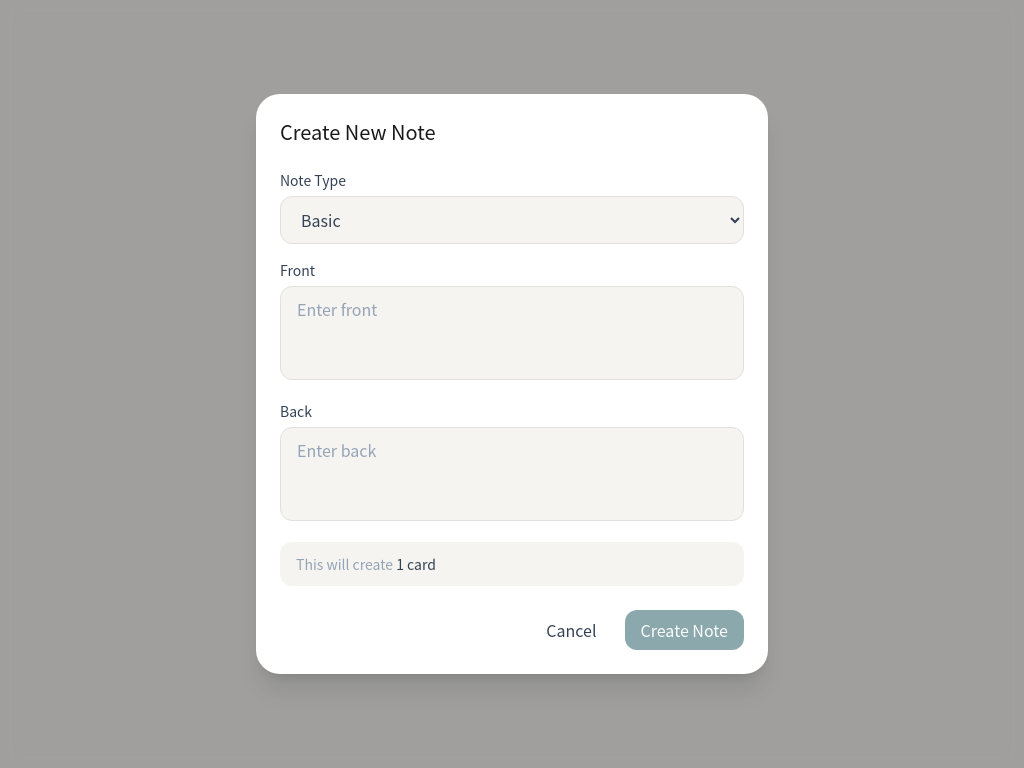
Test: CreateNoteModal › enables create button when all fields have values
Step 1. Type "Question" into the text box labelled "Front" → (512, 333), box [280,286,744,380]
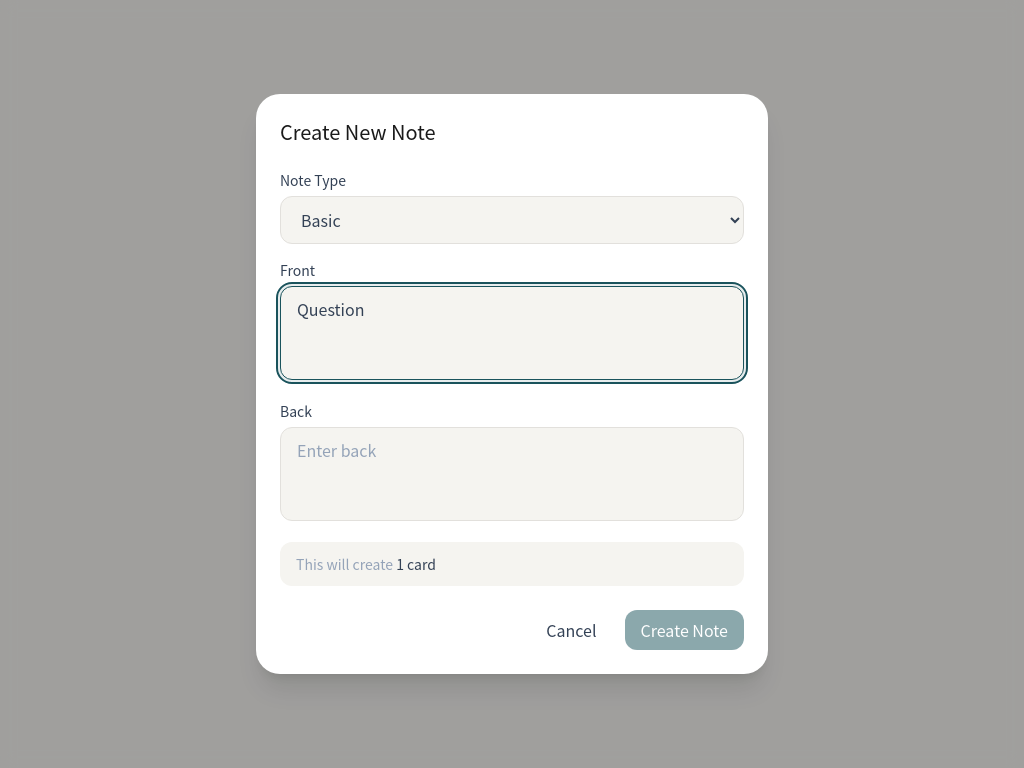
Step 2. Type "Answer" into the text box labelled "Back" → (512, 474), box [280,427,744,521]
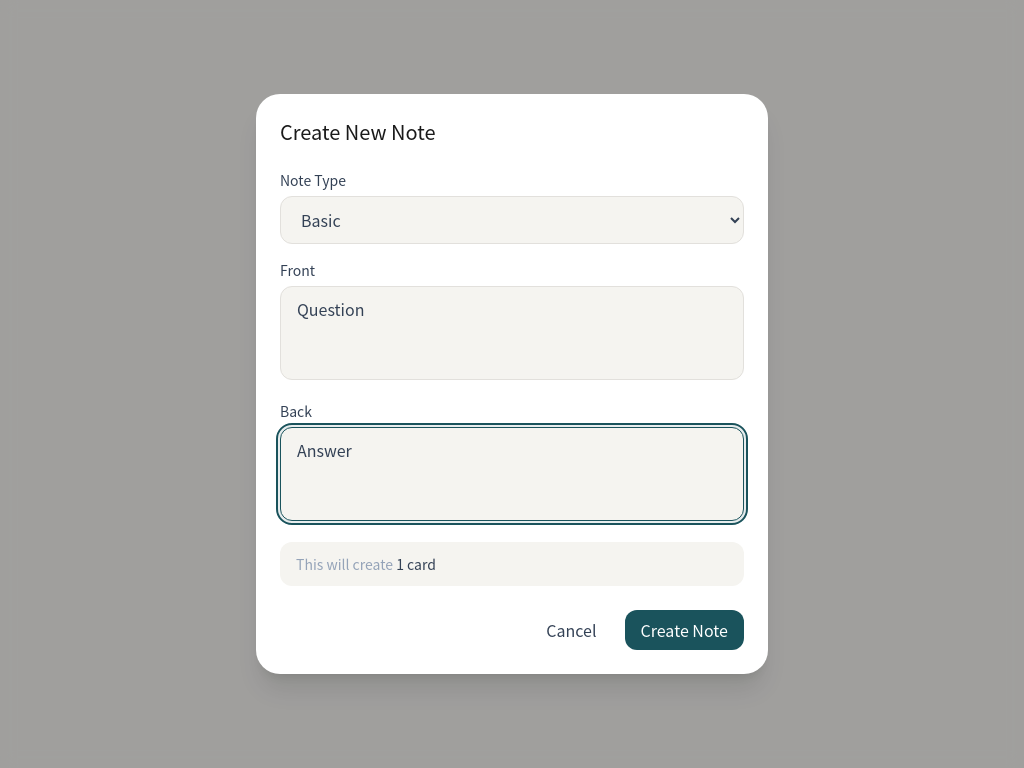
Expected: the button "Create Note" is enabled, [624,610,744,650]
